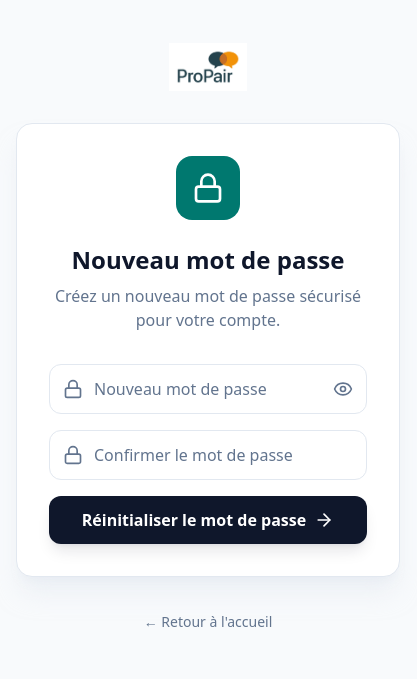
UpdatePassword › with valid reset token - additional tests › API error shows error message
The image size is (417, 679).
Type "validpass123" into the password field labelled "Nouveau mot de passe".
click(208, 389); type("validpass123")  # box x1=49 y1=364 x2=367 y2=414
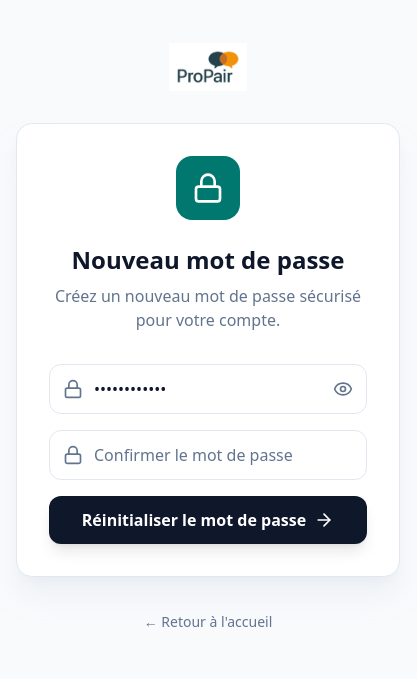
Type "validpass123" into the password field labelled "Confirmer le mot de passe".
click(208, 455); type("validpass123")  # box x1=49 y1=430 x2=367 y2=480
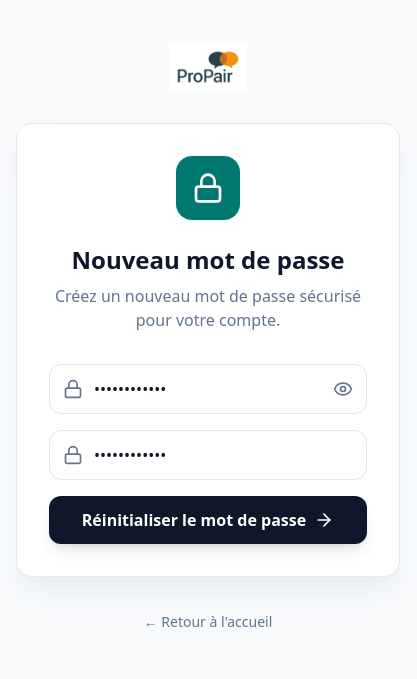
Submit the text "Réinitialiser le mot de passe", box x1=49 y1=364 x2=367 y2=544
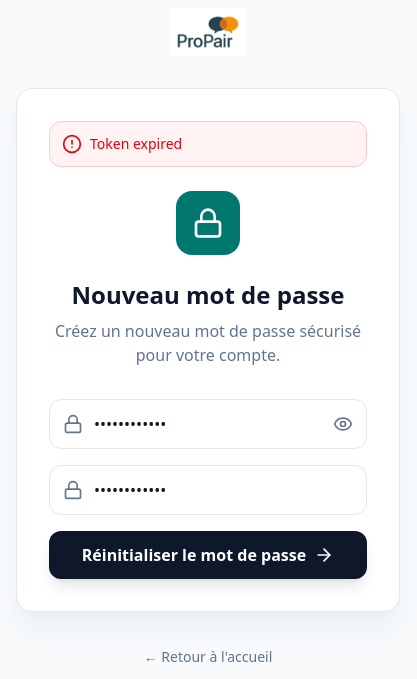
Expected: the text "Token expired" is shown, x1=49 y1=121 x2=367 y2=167
